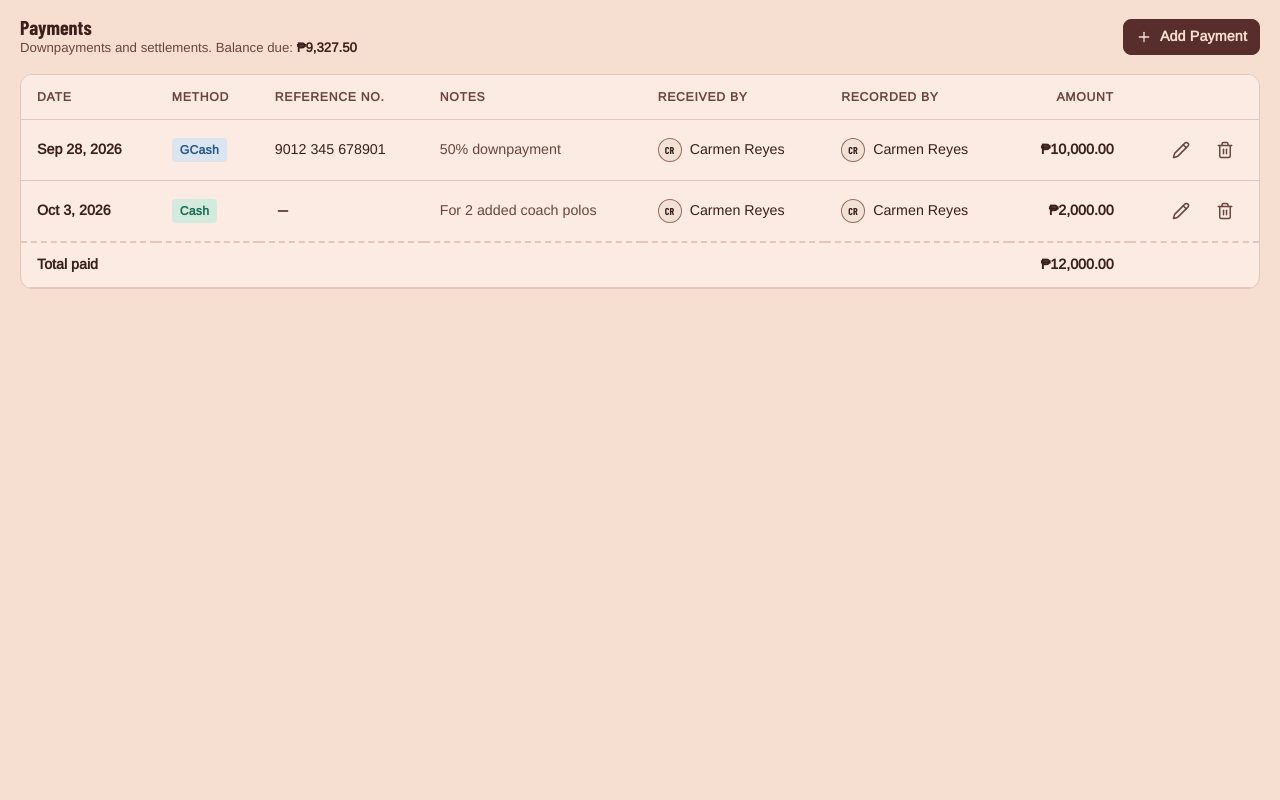
Test: Delete Payment › shows the server's sentence and sends nothing when the payments left would be below the refunds
What coordinates should you click on to do the following:
click the button named "Delete payment of ₱2,000.00, Oct 3, 2026"
I would click on:
 (1225, 211)
Its box is 1207,193 -> 1243,229.
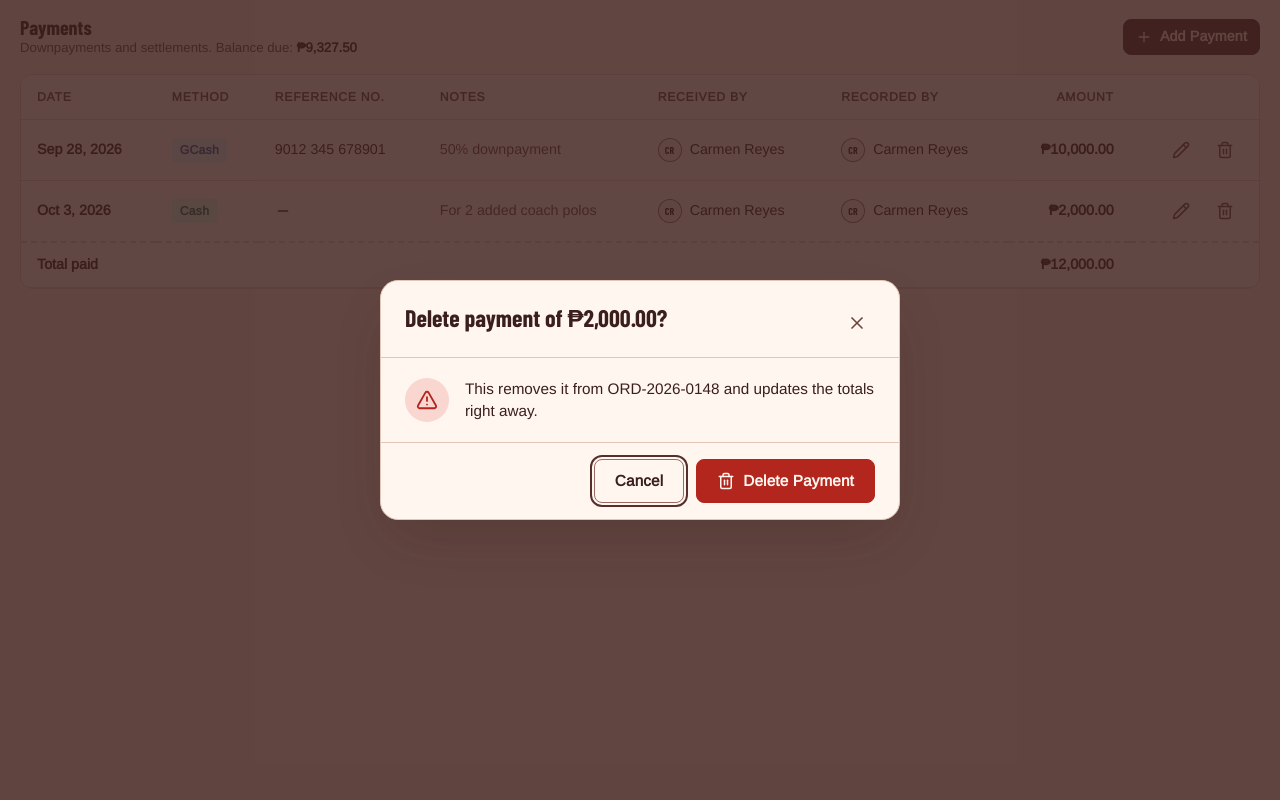
What coordinates should you click on to do the following:
click the button "Delete Payment"
I would click on:
 (786, 481)
Its box is 696,459 -> 875,503.
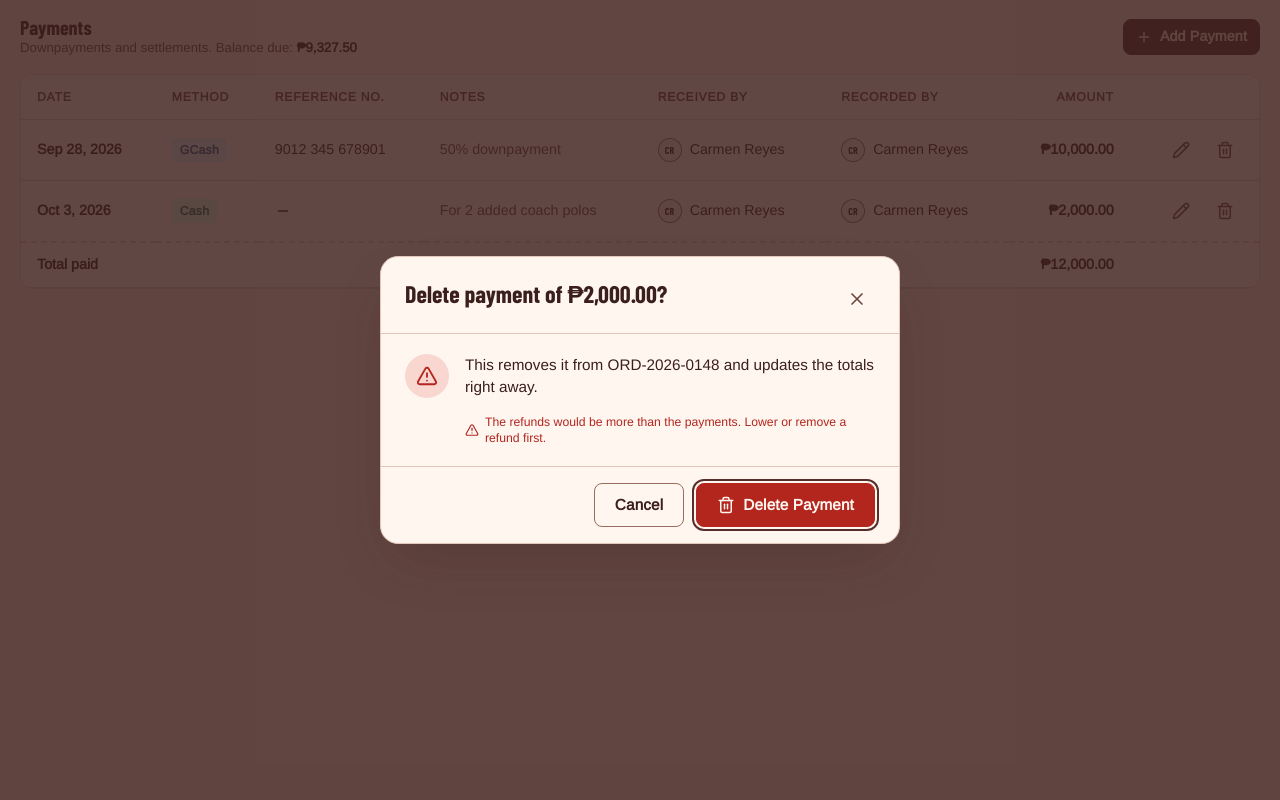
Now the dialog "Delete payment of ₱2,000.00?" is shown, box 380,256 -> 900,544
Now the message reads "The refunds would be more than the payments. Lower or remove a refund first.", box 485,415 -> 846,445
